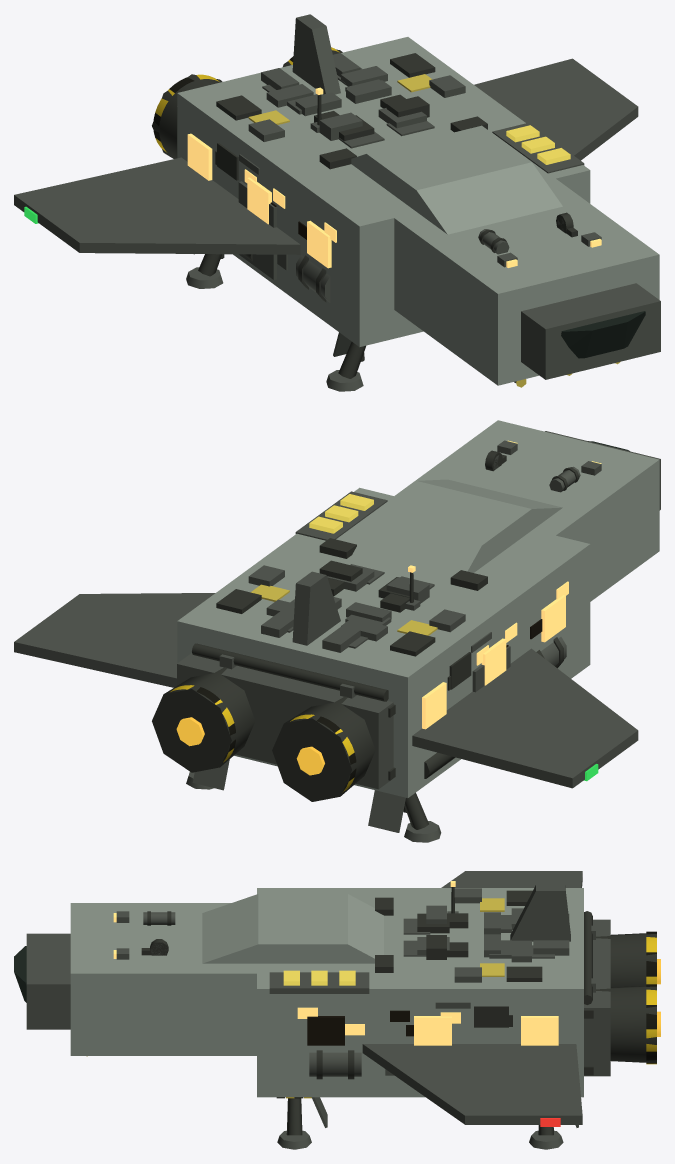
File: shuttle-l(3).glb
The picture shows the model from 3 angles, top to bottom: view 1: azimuth 30°, elevation 25°; view 2: azimuth 150°, elevation 25°; view 3: azimuth 270°, elevation 25°; orthographic projection. The views are drawn at different scales.
Visible parts, largest first — view 1: hullMain, hullNose, wingLeft, canopyFairing, wingRight, hullNoseTip, dorsalFin, cockpitGlass, engineHousing, gearFoot (×2), iffPlinthDorsal, boardingDoor (+18 smaller); view 2: hullMain, hullNose, wingLeft, engineHousing (×2), canopyFairing, wingRight, engineBayExtension, dorsalFin, propellantHeader, gearBayDoor (×2), engineGlow (×2), iffPlinthDorsal (+8 smaller); view 3: hullMain, hullNose, wingRight, canopyFairing, engineHousing (×2), hullNoseTip, engineBayExtension, dorsalFin, wingLeft, iffPlinthDorsal, cabinWindow0R, cabinWindow1R (+14 smaller).
Part boxes in pixels (bbox=[...]): hullMain: bbox=[177, 37, 590, 347]; hullNose: bbox=[388, 175, 659, 385]; wingLeft: bbox=[14, 157, 300, 254]; canopyFairing: bbox=[351, 125, 562, 234]; wingRight: bbox=[474, 58, 638, 160]; hullNoseTip: bbox=[521, 283, 660, 379]; dorsalFin: bbox=[292, 14, 340, 94]; cockpitGlass: bbox=[561, 311, 645, 358]; engineHousing: bbox=[152, 74, 222, 158]; gearFoot (×2): bbox=[186, 267, 363, 391]; iffPlinthDorsal: bbox=[492, 122, 584, 173]; boardingDoor: bbox=[238, 181, 276, 279]; hullMain: bbox=[177, 487, 590, 797]; hullNose: bbox=[386, 420, 659, 601]; wingLeft: bbox=[412, 648, 638, 788]; engineHousing (×2): bbox=[152, 667, 375, 801]; canopyFairing: bbox=[352, 479, 562, 578]; wingRight: bbox=[14, 593, 215, 687]; engineBayExtension: bbox=[177, 653, 393, 789]; dorsalFin: bbox=[292, 571, 340, 645]; propellantHeader: bbox=[192, 643, 388, 701]; gearBayDoor (×2): bbox=[192, 759, 405, 832]; engineGlow (×2): bbox=[176, 717, 324, 775]; iffPlinthDorsal: bbox=[295, 491, 387, 540]; hullMain: bbox=[257, 888, 583, 1097]; hullNose: bbox=[70, 903, 271, 1055]; wingRight: bbox=[362, 1044, 582, 1124]; canopyFairing: bbox=[202, 894, 383, 963]; engineHousing (×2): bbox=[596, 933, 656, 1063]; hullNoseTip: bbox=[26, 933, 70, 1029]; engineBayExtension: bbox=[584, 919, 610, 1076]; dorsalFin: bbox=[510, 884, 570, 941]; wingLeft: bbox=[441, 871, 582, 887]; iffPlinthDorsal: bbox=[269, 972, 369, 993]; cabinWindow0R: bbox=[521, 1016, 558, 1045]; cabinWindow1R: bbox=[414, 1016, 451, 1045].
Bounding box in the file's own units: 4.63 × 1.82 × 5.14.
